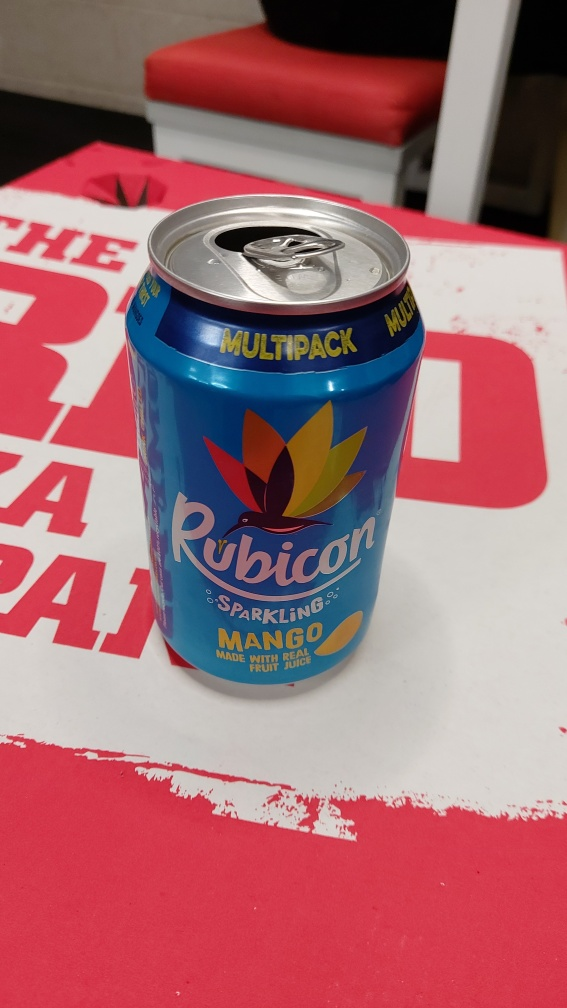can_blue: (99, 172, 439, 703)
